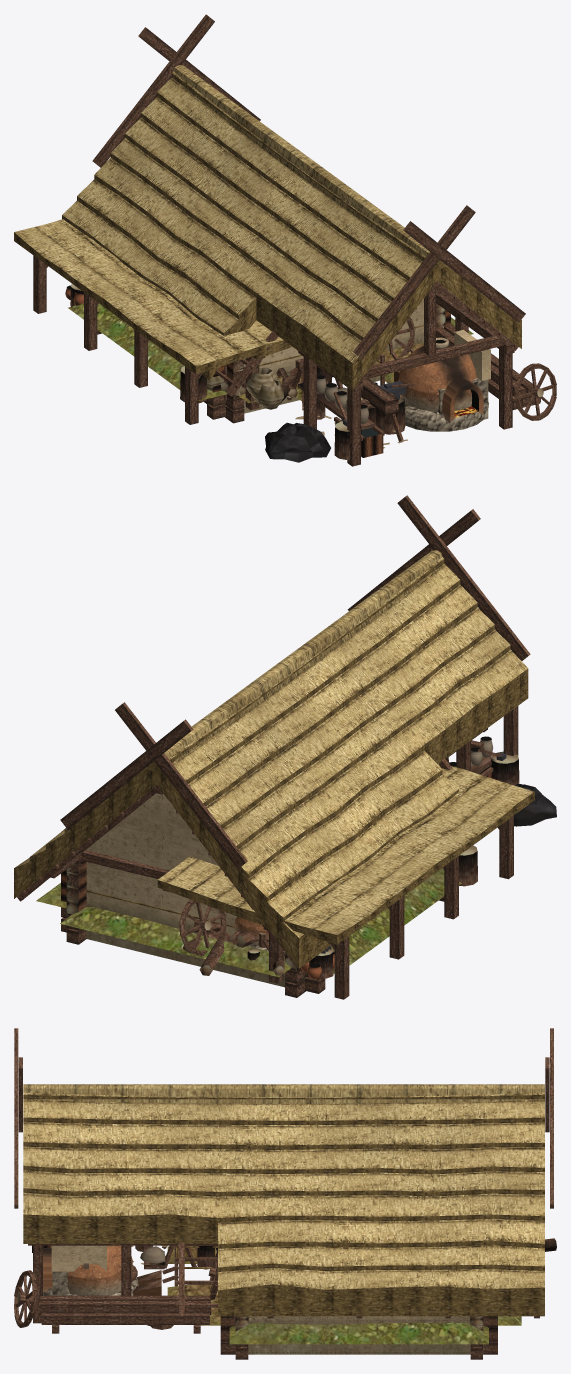
File: construction.glb
3 renders of one model, top to bottom at view 1: azimuth 30°, elevation 25°; view 2: azimuth 150°, elevation 25°; view 3: azimuth 270°, elevation 25°, orthographic. The views are drawn at different scales.
Visible parts, largest first — view 1: hrncir-ridge, pristresek-hrncir-thatch, hrncir-thatch-4, hrncir-thatch-7, hrncir-thatch-6, hrncir-thatch-5, hrncir-thatch-8, hrncir-porch-posts, hrncir-thatch-3, hrncir-thatch-2, pristresek-hrncir-posts, hrncir-berms (+22 smaller); view 2: pristresek-hrncir-thatch, hrncir-ridge, hrncir-thatch-4, hrncir-daub, hrncir-thatch-7, hrncir-thatch-6, hrncir-thatch-5, hrncir-thatch-8, hrncir-thatch-3, hrncir-berms, hrncir-thatch-2, pristresek-hrncir-posts (+10 smaller); view 3: hrncir-thatch-4, hrncir-thatch-1, hrncir-thatch-7, hrncir-thatch-6, hrncir-thatch-5, hrncir-thatch-8, hrncir-ridge, hrncir-thatch-3, hrncir-thatch-2, hrncir-berms, tesar-beams, hrncir-daub (+12 smaller).
Part boxes in pixels (<box>): hrncir-ridge: <box>92,14,525,358</box>; pristresek-hrncir-thatch: <box>14,219,289,374</box>; hrncir-thatch-4: <box>94,153,521,390</box>; hrncir-thatch-7: <box>141,92,474,329</box>; hrncir-thatch-6: <box>125,113,490,349</box>; hrncir-thatch-5: <box>111,134,505,368</box>; hrncir-thatch-8: <box>157,73,458,308</box>; hrncir-porch-posts: <box>303,281,514,466</box>; hrncir-thatch-3: <box>77,175,256,331</box>; hrncir-thatch-2: <box>62,196,238,335</box>; pristresek-hrncir-posts: <box>33,255,204,424</box>; hrncir-berms: <box>68,303,473,403</box>; pristresek-hrncir-thatch: <box>157,764,534,944</box>; hrncir-ridge: <box>60,495,530,868</box>; hrncir-thatch-4: <box>64,645,528,902</box>; hrncir-daub: <box>61,792,306,987</box>; hrncir-thatch-7: <box>115,580,477,837</box>; hrncir-thatch-6: <box>98,603,494,859</box>; hrncir-thatch-5: <box>82,625,510,879</box>; hrncir-thatch-8: <box>132,559,459,814</box>; hrncir-thatch-3: <box>46,745,442,926</box>; hrncir-berms: <box>36,869,461,977</box>; hrncir-thatch-2: <box>29,770,458,947</box>; pristresek-hrncir-posts: <box>162,816,513,999</box>; hrncir-thatch-4: <box>23,1188,544,1243</box>; hrncir-thatch-1: <box>218,1263,544,1316</box>; hrncir-thatch-7: <box>23,1117,544,1145</box>; hrncir-thatch-6: <box>23,1142,544,1169</box>; hrncir-thatch-5: <box>23,1166,544,1191</box>; hrncir-thatch-8: <box>23,1095,544,1120</box>; hrncir-ridge: <box>14,1028,553,1208</box>; hrncir-thatch-3: <box>218,1214,544,1244</box>; hrncir-thatch-2: <box>218,1240,544,1267</box>; hrncir-berms: <box>167,1246,521,1344</box>; tesar-beams: <box>39,1295,211,1333</box>; hrncir-daub: <box>220,1316,497,1354</box>.
Size of the model in its own units: 6.03 by 4.86 by 9.21.
1 material, 1 textured.
